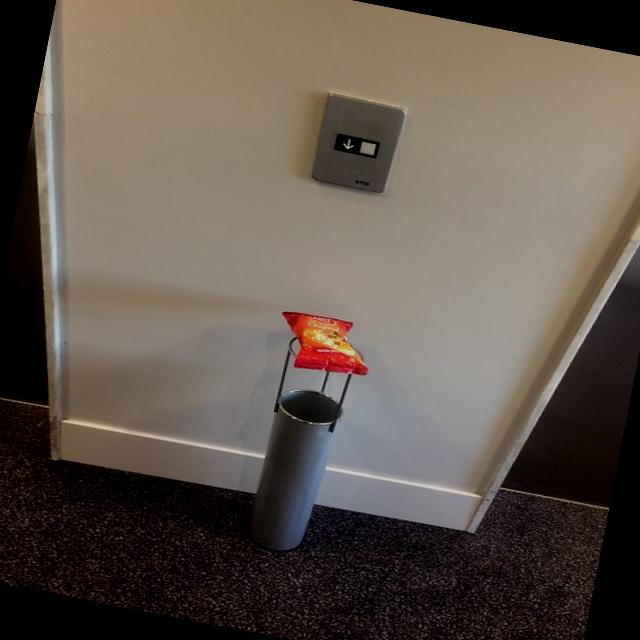Trash: (276, 306, 384, 386)
